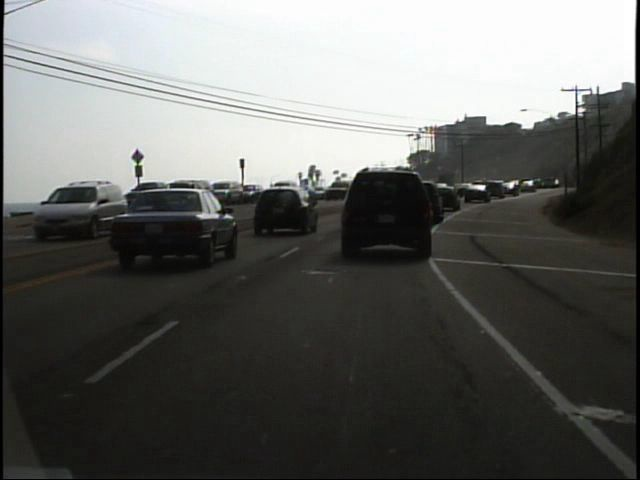person: (99, 178, 117, 217)
